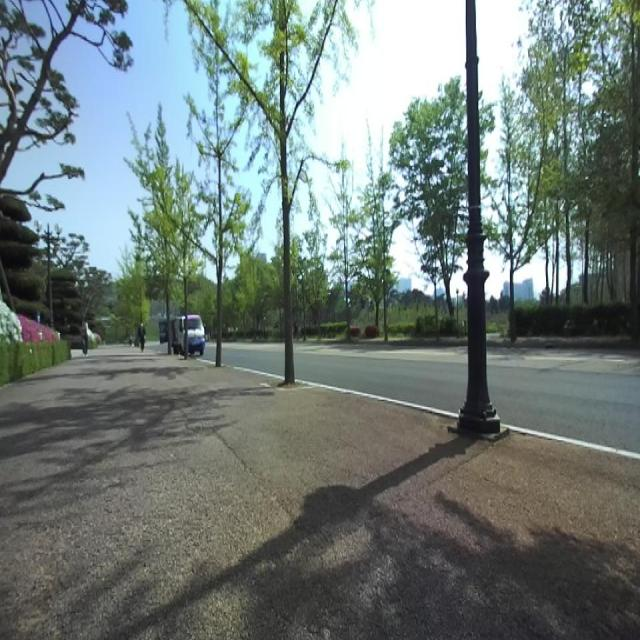sidewalk: (0, 347, 640, 638), (300, 380, 460, 418), (502, 424, 640, 460)
